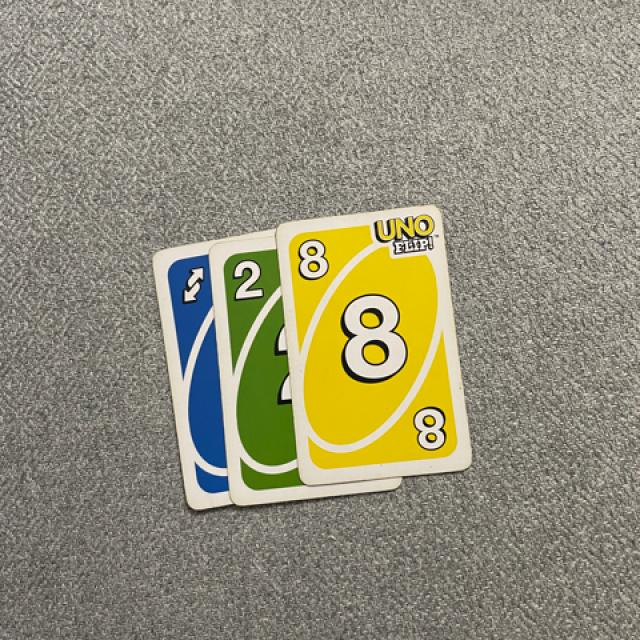lbluerevers-20: (165, 261, 207, 309)
lgreen-2: (223, 253, 275, 307)
lyellow-8: (284, 231, 342, 293)
